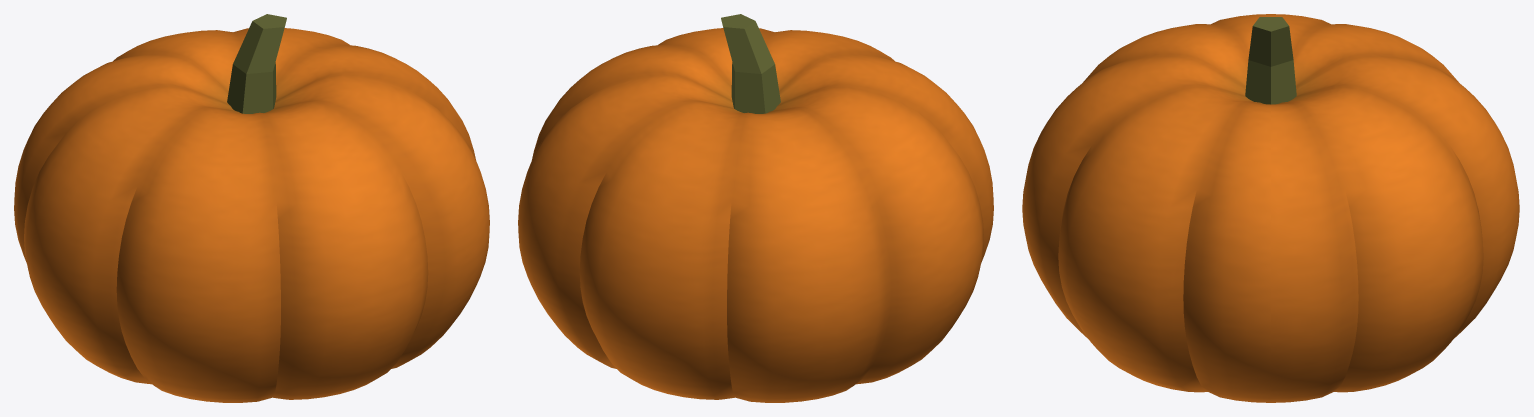
The model's file is pumpkin.glb.
3 renders of one model, left to right at view 1: azimuth 30°, elevation 25°; view 2: azimuth 150°, elevation 25°; view 3: azimuth 270°, elevation 25°, orthographic. The views are drawn at different scales.
Visible parts, largest first — view 1: pumpkin; view 2: pumpkin; view 3: pumpkin.
Boxes of the visible parts, left/top/right/bottom form: pumpkin: left=14, top=14, right=489, bottom=402; pumpkin: left=518, top=14, right=993, bottom=402; pumpkin: left=1022, top=14, right=1519, bottom=402.
Size of the model in its own units: 0.44 by 0.32 by 0.44.
1 material, 1 textured.
